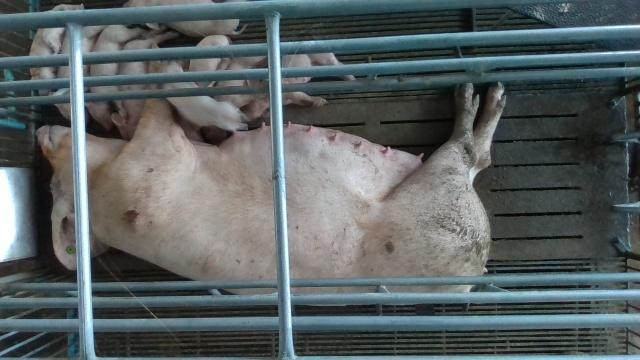piglet: (111, 32, 177, 139), (251, 53, 356, 118), (162, 61, 249, 131), (87, 26, 143, 130), (53, 25, 106, 119), (122, 0, 247, 36), (29, 2, 86, 78), (214, 56, 267, 105), (189, 35, 230, 86)
sow-sleep-lactate: (36, 82, 506, 292)
